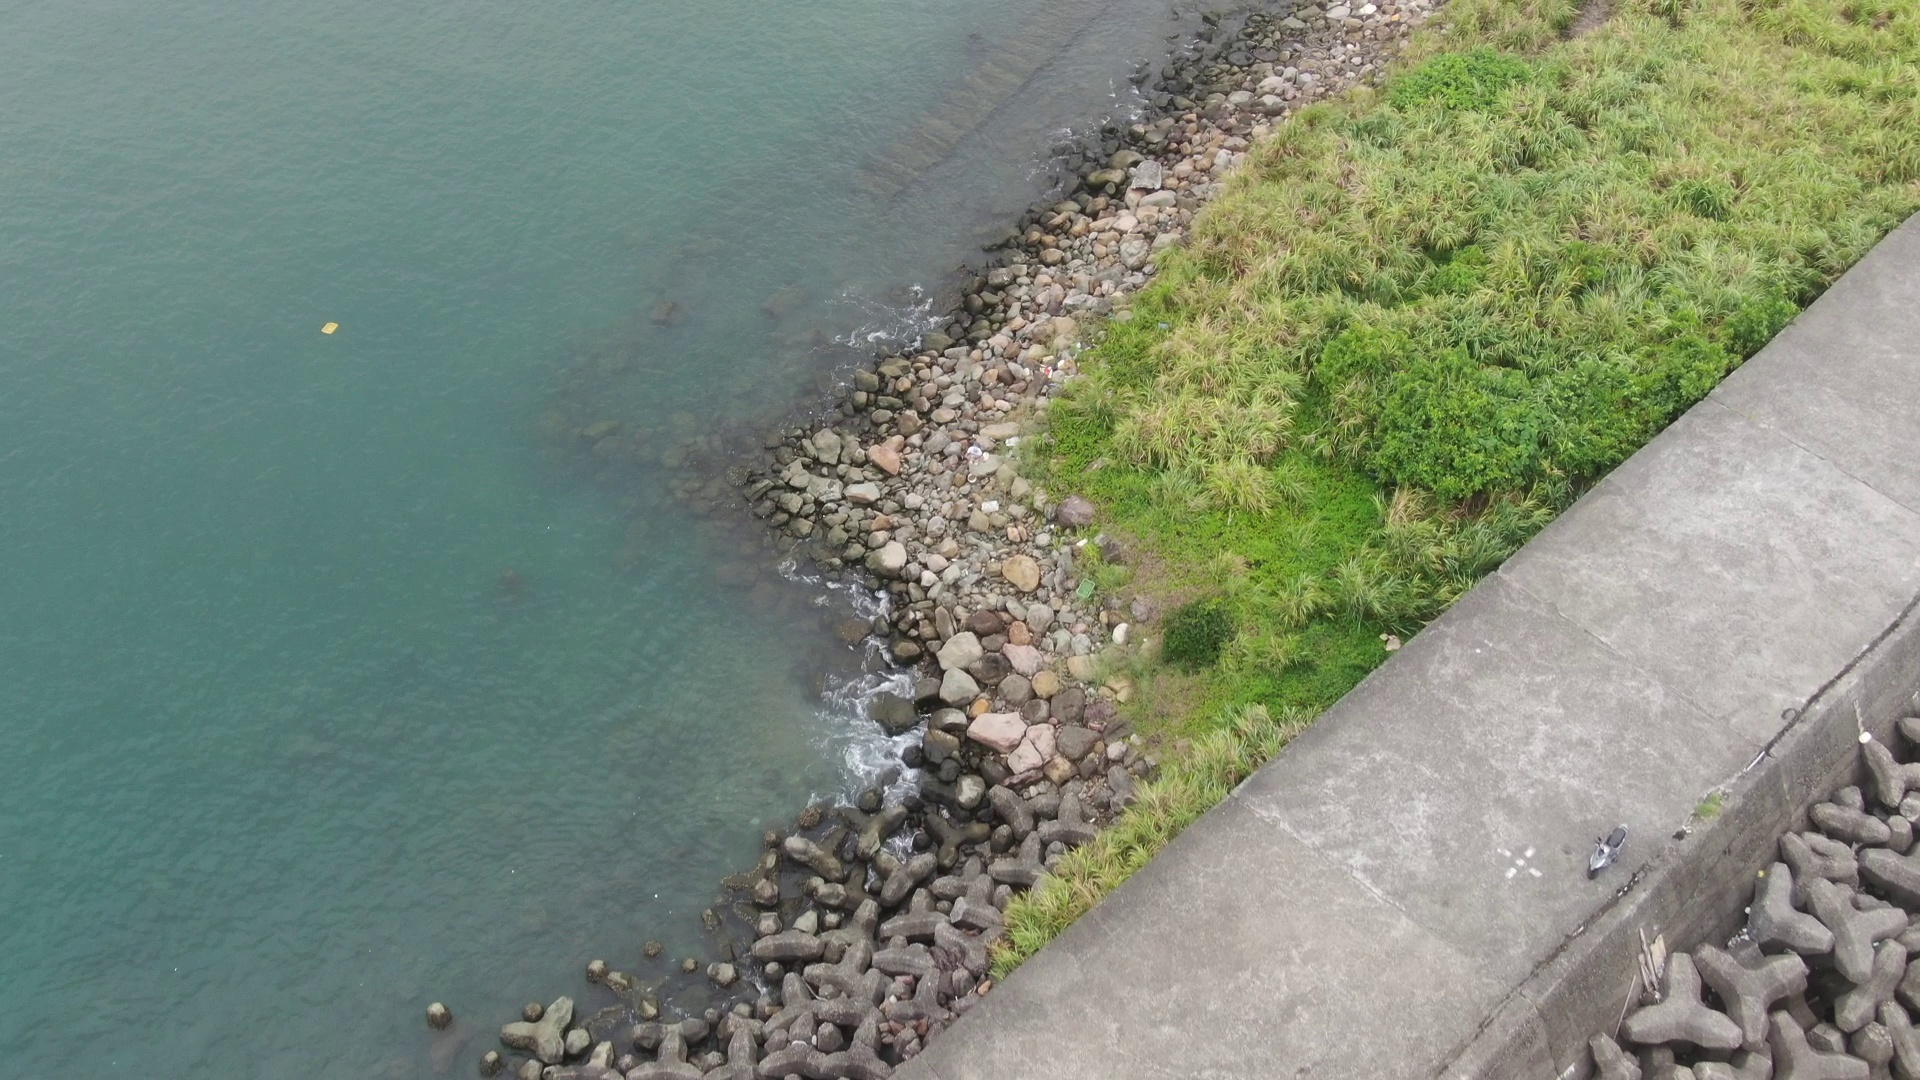garbage: (311, 310, 348, 344), (1847, 729, 1884, 752)
